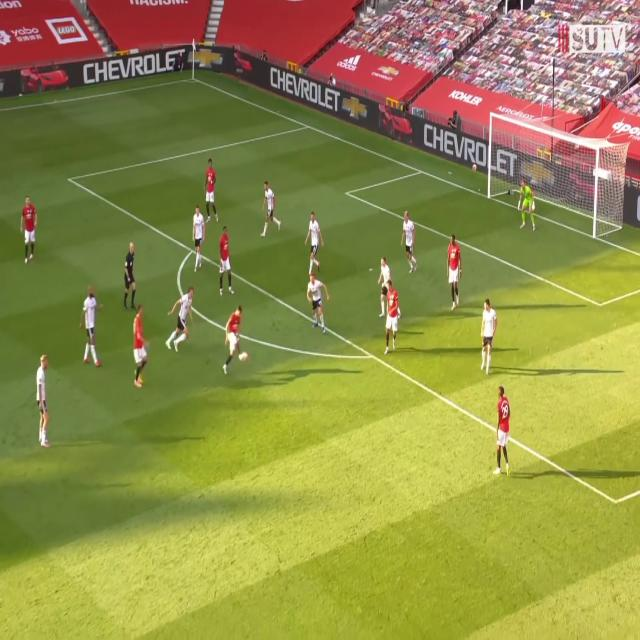Ball: (239, 352, 249, 363)
GoalKeeper: (517, 177, 535, 234)
TEAM 1: (132, 304, 151, 390), (493, 388, 511, 478), (382, 278, 402, 352), (224, 305, 245, 375), (20, 194, 38, 264), (216, 224, 233, 296), (446, 237, 462, 310), (204, 160, 216, 224)
TEAM 2: (80, 282, 103, 368), (167, 288, 196, 352), (36, 356, 55, 451), (480, 299, 498, 375), (307, 276, 330, 332), (261, 181, 280, 237), (402, 211, 418, 272), (305, 213, 323, 266), (193, 206, 207, 266), (380, 256, 395, 295)
